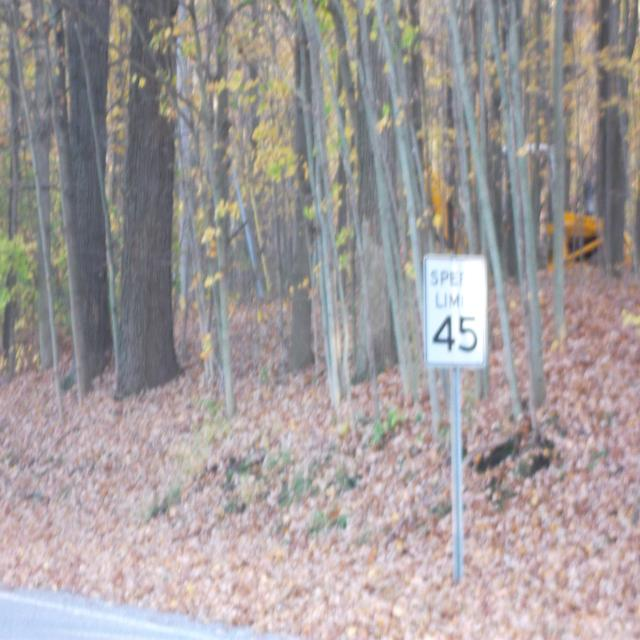regulatory: (419, 249, 489, 374)
